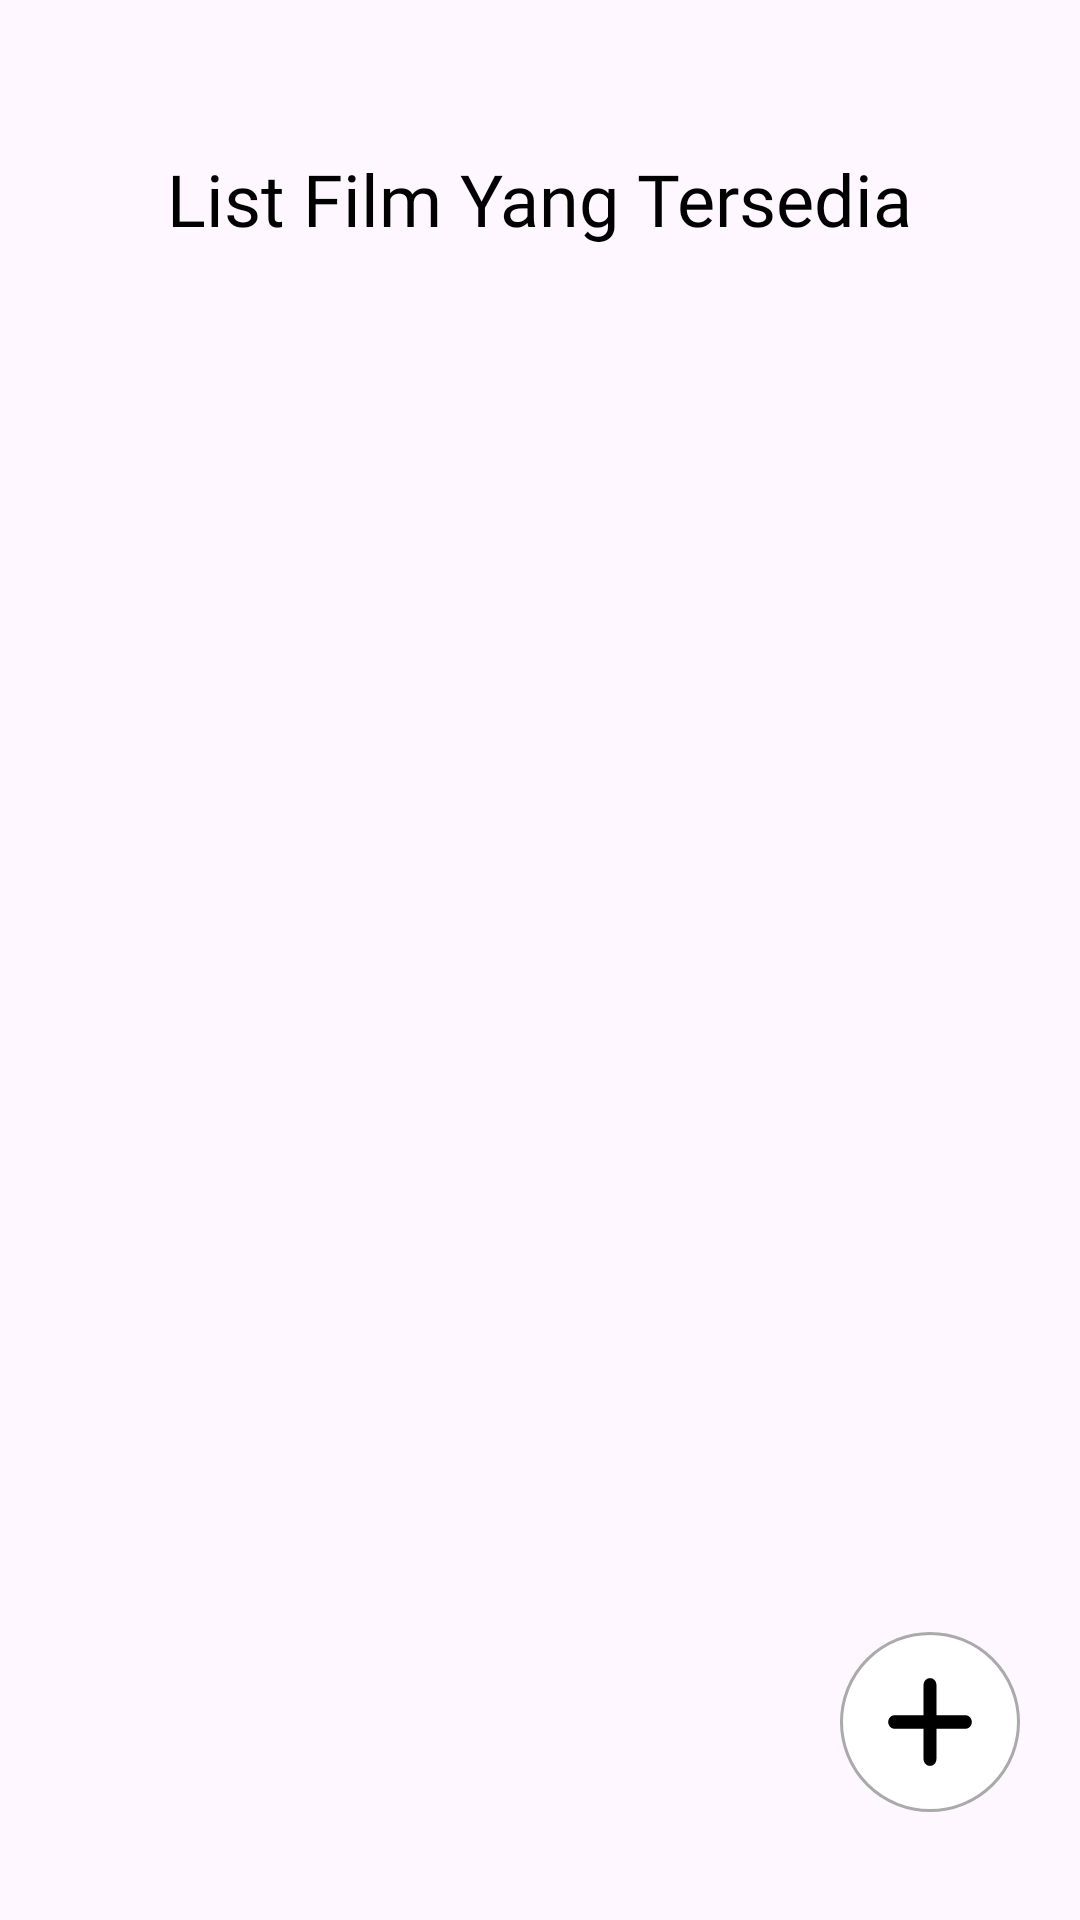

Screen size 1080 × 1920. Icon name, then its center in pixels as [x,y]:
plus: [930,1722]
